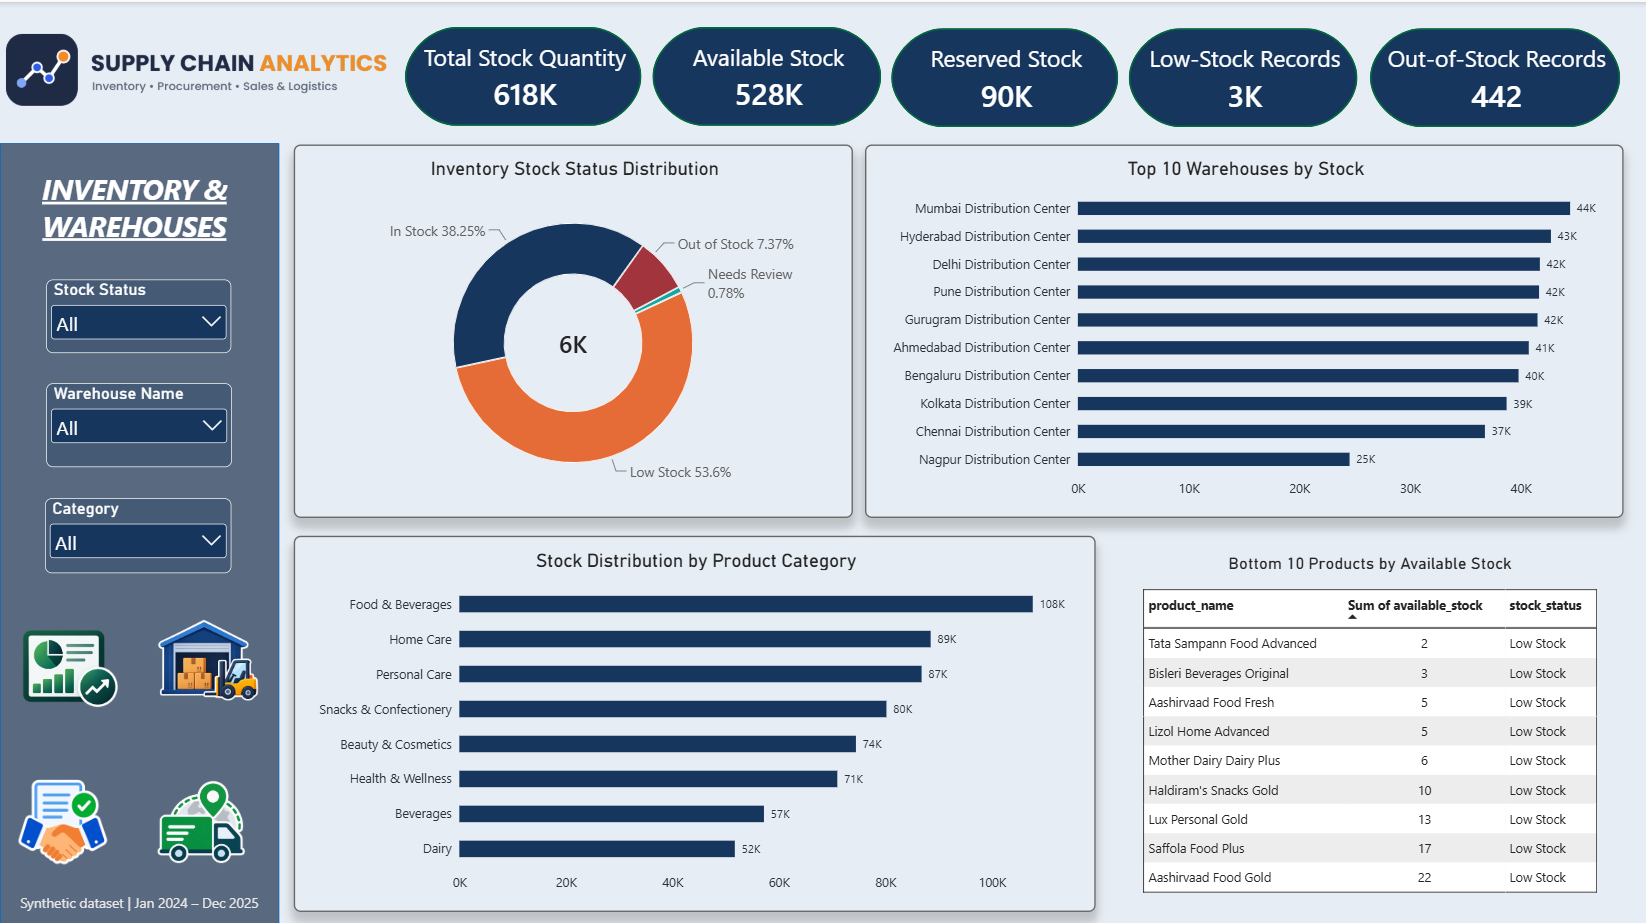

The page's visual inventory and layout, read from the dashboard file:
{"tool":"powerbi","page":{"name":"Inventory & Warehouses","canvas":[1920,1080],"ordinal":1},"visuals":[{"type":"cardVisual","fields":{"Data":["Inventory.Total Stock Quantity"]},"box":[470.5,28.5,275.6,115.6],"z":0},{"type":"cardVisual","fields":{"Data":["Inventory.Available Stock"]},"box":[758.8,28.5,266.1,115.6],"z":1000},{"type":"cardVisual","fields":{"Data":["Inventory.Reserved Stock"]},"box":[1036,30.1,264.6,115.6],"z":2000},{"type":"cardVisual","fields":{"Data":["Inventory.Low-Stock Records"]},"box":[1313.3,30.1,266.1,115.6],"z":3000},{"type":"cardVisual","fields":{"Data":["Inventory.Out-of-Stock Records"]},"box":[1593.7,30.1,291.5,115.6],"z":4000},{"type":"donutChart","title":"Inventory Stock Status Distribution","fields":{"Category":["Inventory.stock_status"],"Y":["CountNonNull(Inventory.inventory_id)"]},"box":[341.9,165.7,650.6,434.3],"z":5000},{"type":"clusteredBarChart","title":"Top 10 Warehouses by Stock","fields":{"Category":["Warehouses.warehouse_name"],"Y":["Inventory.Total Stock Quantity"]},"box":[1006.8,165.7,882.6,434.1],"z":6000},{"type":"clusteredBarChart","title":"Stock Distribution by Product Category","fields":{"Category":["Products.category"],"Y":["Inventory.Total Stock Quantity"]},"box":[342.2,621.4,933,437.7],"z":7000},{"type":"shape","box":[0,164,324.8,910.9],"z":8000},{"type":"tableEx","title":"Bottom 10 Products by Available Stock","fields":{"Values":["Products.product_name","Sum(Inventory.available_stock)","Inventory.stock_status"]},"box":[1313.4,622.7,561.6,455.2],"z":9000},{"type":"slicer","fields":{"Values":["Warehouses.warehouse_name"]},"box":[54.1,443,216.3,97.7],"z":10000},{"type":"slicer","fields":{"Values":["Products.category"]},"box":[52.3,576.6,217,87.1],"z":11000},{"type":"slicer","fields":{"Values":["Inventory.stock_status"]},"box":[53.9,323.2,215.4,85.5],"z":12000},{"type":"image","box":[0,706.5,162.1,133.3],"z":13000},{"type":"image","box":[175.8,697,131.5,135.1],"z":14000},{"type":"image","box":[6.3,877.6,135.1,145.9],"z":15000},{"type":"image","box":[163.2,877.6,134.7,145.7],"z":16000},{"type":"image","box":[0,11.1,459.4,134.7],"z":17000},{"type":"textbox","box":[6.3,196.4,301,101.4],"z":18000},{"type":"textbox","box":[0,1036,324.4,41.9],"z":19000}]}

Visuals, with their boxes in screenshot pixels (x1, y1, x2, y2), scaled from the page's 1920x1080 canvas onto the 1646x923 screenshot:
cardVisual - Inventory.Total Stock Quantity: 403 24 640 123
cardVisual - Inventory.Available Stock: 651 24 879 123
cardVisual - Inventory.Reserved Stock: 888 26 1115 125
cardVisual - Inventory.Low-Stock Records: 1126 26 1354 125
cardVisual - Inventory.Out-of-Stock Records: 1366 26 1616 125
"Inventory Stock Status Distribution" donutChart: 293 142 851 513
"Top 10 Warehouses by Stock" clusteredBarChart: 863 142 1620 513
"Stock Distribution by Product Category" clusteredBarChart: 293 531 1093 905
shape: 0 140 278 919
"Bottom 10 Products by Available Stock" tableEx: 1126 532 1607 921
slicer - Warehouses.warehouse_name: 46 379 232 462
slicer - Products.category: 45 493 231 567
slicer - Inventory.stock_status: 46 276 231 349
image: 0 604 139 718
image: 151 596 263 711
image: 5 750 121 875
image: 140 750 255 875
image: 0 9 394 125
textbox: 5 168 263 255
textbox: 0 885 278 921
